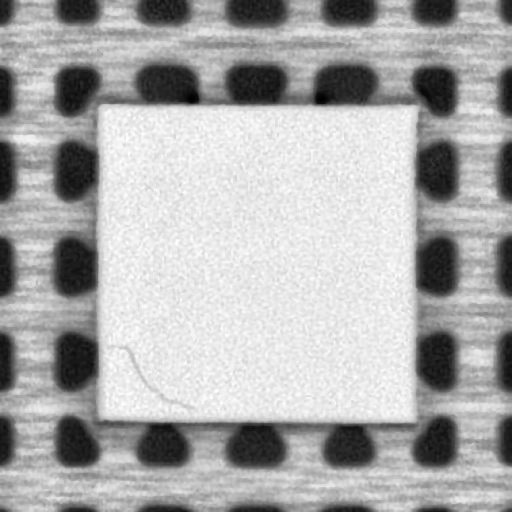DIE_CRACK: (108, 342, 194, 413)
